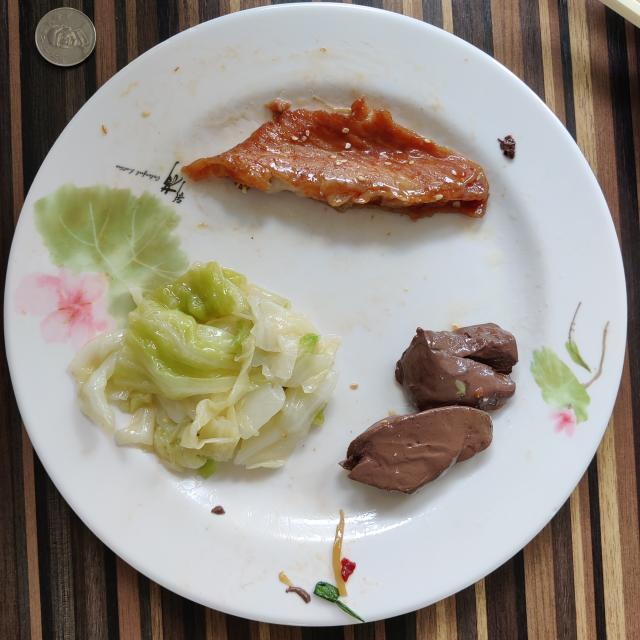Kabayaki sea bream fillet: (182, 96, 489, 220)
cabbage: (70, 261, 340, 476)
coin: (35, 8, 96, 66)
pig blood curd: (340, 322, 519, 494)
